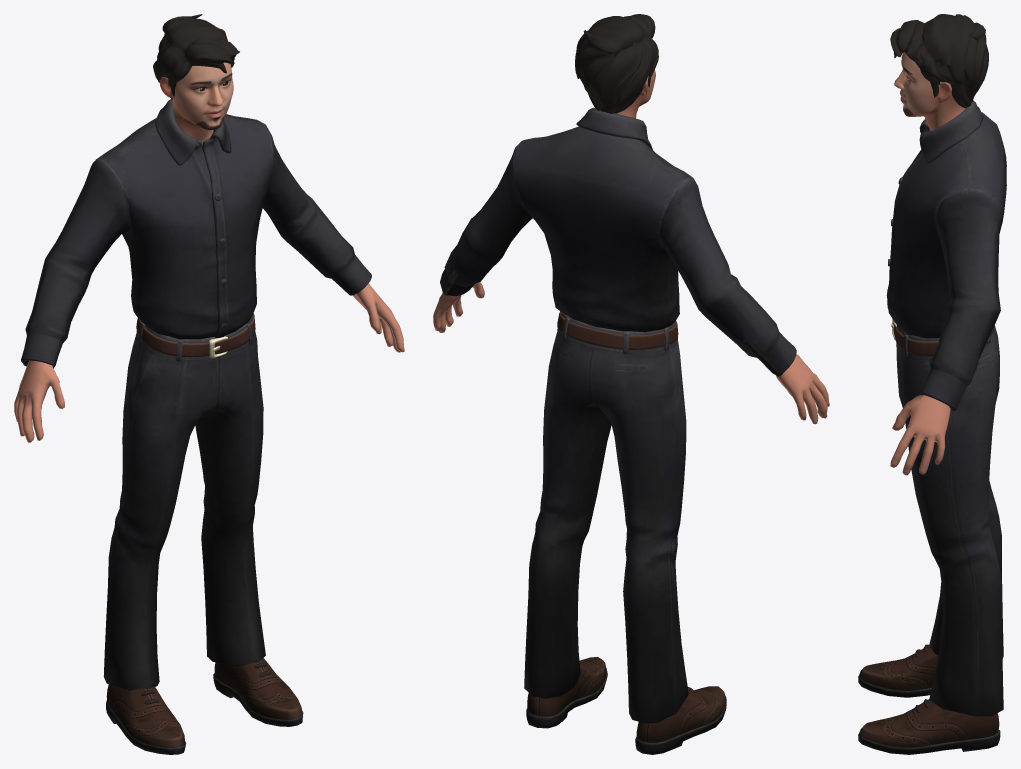
Rendered from greatuis.glb.
3 renders of one model, left to right at view 1: azimuth 30°, elevation 25°; view 2: azimuth 150°, elevation 25°; view 3: azimuth 270°, elevation 25°, orthographic.
Visible parts, largest first — view 1: Wolf3D_Outfit_Top, Wolf3D_Outfit_Bottom, Wolf3D_Outfit_Footwear, Wolf3D_Body, Wolf3D_Hair, Wolf3D_Head; view 2: Wolf3D_Outfit_Bottom, Wolf3D_Outfit_Top, Wolf3D_Hair, Wolf3D_Outfit_Footwear, Wolf3D_Body; view 3: Wolf3D_Outfit_Top, Wolf3D_Outfit_Bottom, Wolf3D_Outfit_Footwear, Wolf3D_Hair, Wolf3D_Body, Wolf3D_Head.
Boxes of the visible parts, x1=… form: Wolf3D_Outfit_Top: x1=21, y1=99, x2=371, y2=368; Wolf3D_Outfit_Bottom: x1=103, y1=313, x2=265, y2=690; Wolf3D_Outfit_Footwear: x1=106, y1=657, x2=303, y2=754; Wolf3D_Body: x1=14, y1=283, x2=404, y2=442; Wolf3D_Hair: x1=153, y1=14, x2=239, y2=99; Wolf3D_Head: x1=159, y1=62, x2=233, y2=145; Wolf3D_Outfit_Bottom: x1=524, y1=311, x2=688, y2=723; Wolf3D_Outfit_Top: x1=440, y1=107, x2=796, y2=376; Wolf3D_Hair: x1=575, y1=14, x2=658, y2=113; Wolf3D_Outfit_Footwear: x1=526, y1=656, x2=726, y2=754; Wolf3D_Body: x1=433, y1=282, x2=829, y2=424; Wolf3D_Outfit_Top: x1=886, y1=100, x2=1006, y2=410; Wolf3D_Outfit_Bottom: x1=891, y1=319, x2=1003, y2=716; Wolf3D_Outfit_Footwear: x1=858, y1=644, x2=1000, y2=754; Wolf3D_Hair: x1=890, y1=14, x2=988, y2=108; Wolf3D_Body: x1=890, y1=395, x2=950, y2=475; Wolf3D_Head: x1=894, y1=52, x2=965, y2=130.
Bounding box in the file's own units: 1.06 × 1.86 × 0.3595.
8 materials, 8 textured.
